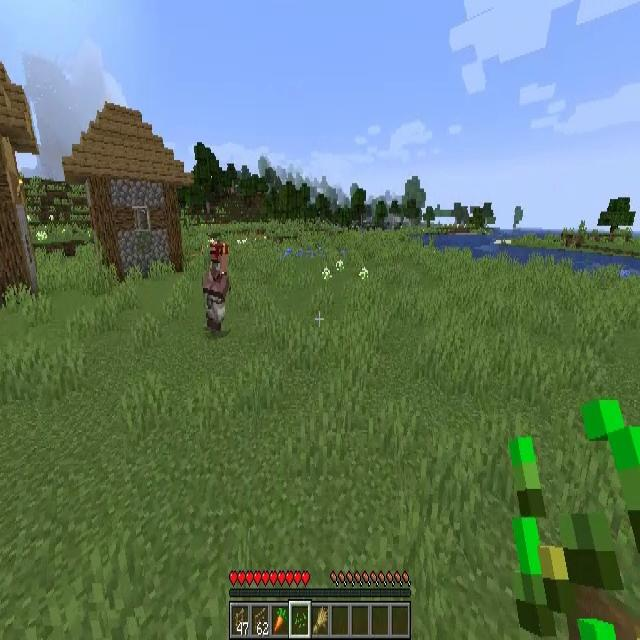flower: (358, 268, 367, 282)
people: (203, 235, 229, 331)
